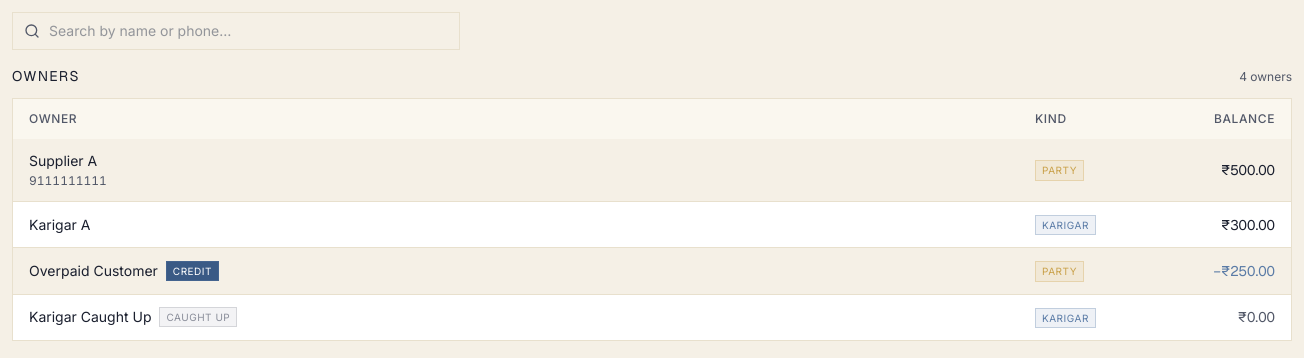
LedgerClient — search filter › narrows owners by name
The image size is (1304, 358).
Type "Karigar A" into the search field with placeholder "Search by name or phone…" at (236, 31), box [12, 12, 460, 50]
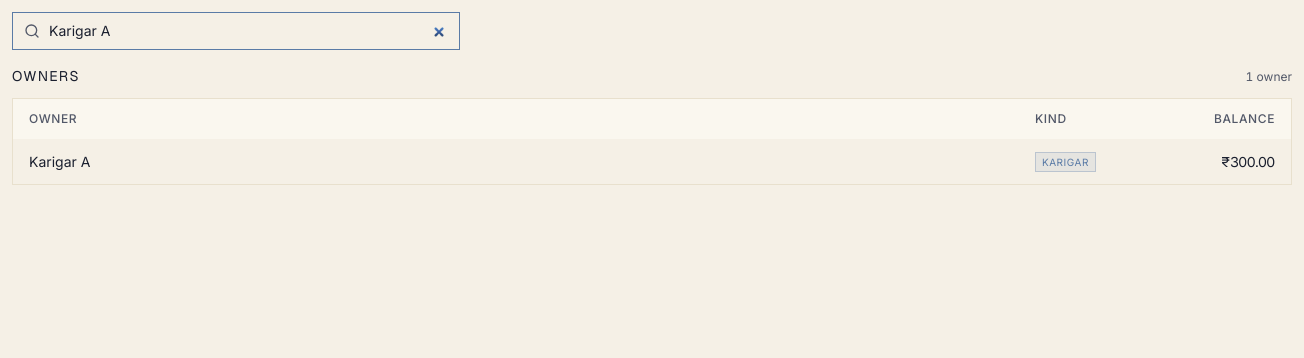
Expected: the text "Karigar A" is shown, [29, 152, 90, 172]
Expected: the number of rows with test id "ledger-owner-row" is 1, [13, 139, 1291, 184]
